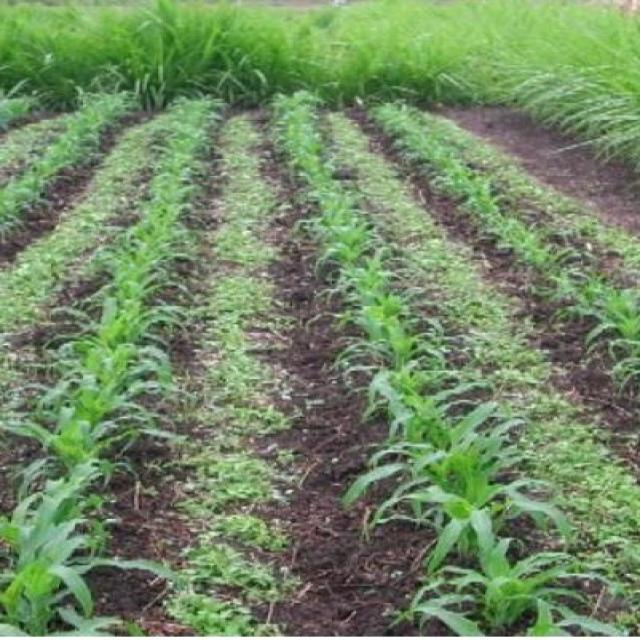row: (63, 103, 453, 639), (318, 94, 640, 638), (0, 100, 172, 533), (428, 101, 639, 284), (0, 95, 94, 194)
